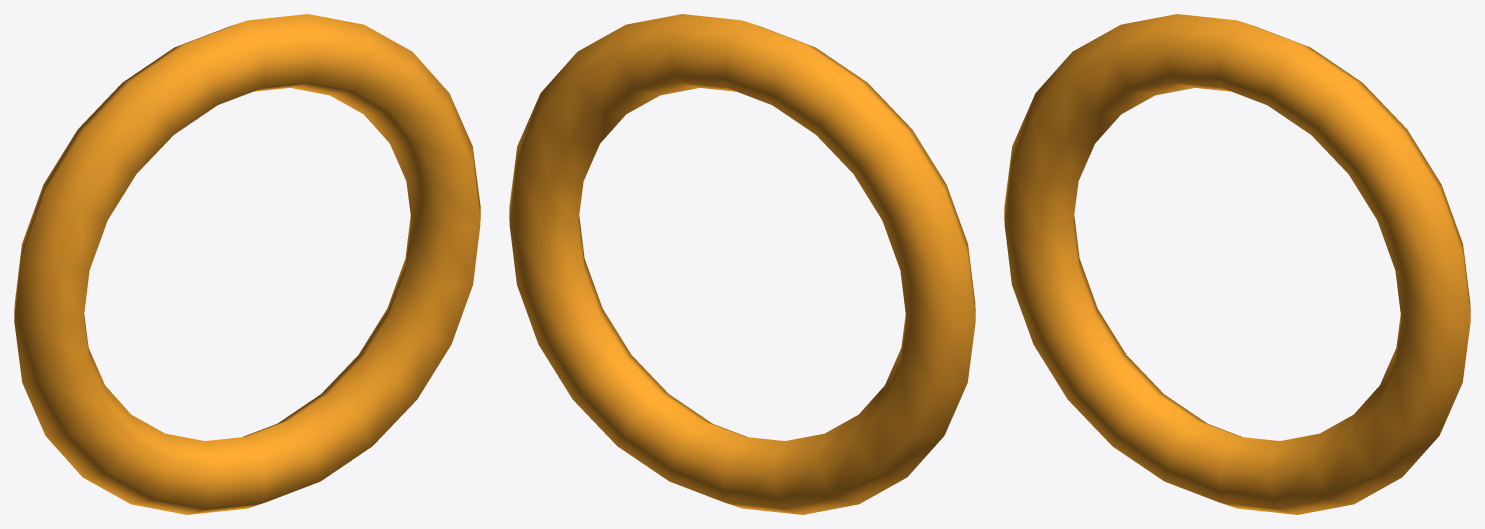
The model's file is ring_001.fbx.
The picture shows the model from 3 angles, left to right: view 1: azimuth 30°, elevation 25°; view 2: azimuth 150°, elevation 25°; view 3: azimuth 330°, elevation 25°; orthographic projection.
Visible parts, largest first — view 1: ring_001; view 2: ring_001; view 3: ring_001.
Part boxes in pixels (bbox=[...]): ring_001: bbox=[14, 14, 480, 514]; ring_001: bbox=[509, 14, 975, 514]; ring_001: bbox=[1004, 14, 1470, 514].
Size of the model in its own units: 138 by 17.85 by 138.
